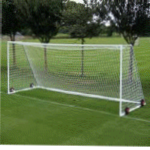goals: (6, 39, 144, 119)
